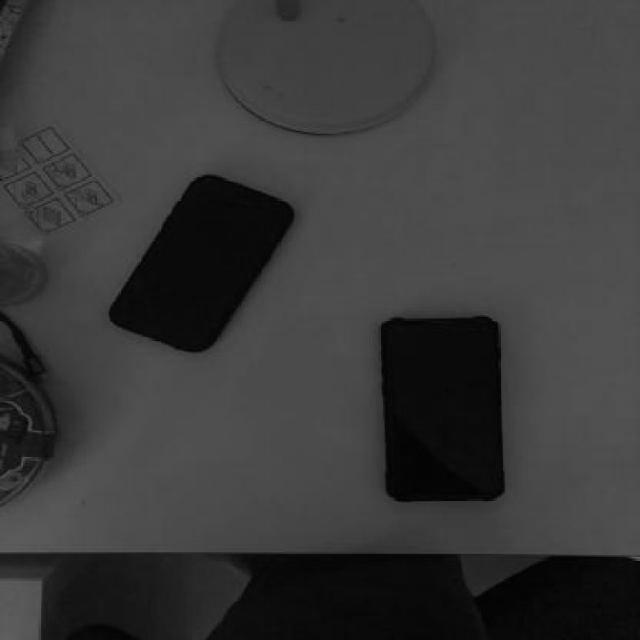fake: (112, 171, 300, 354), (378, 318, 508, 498)
